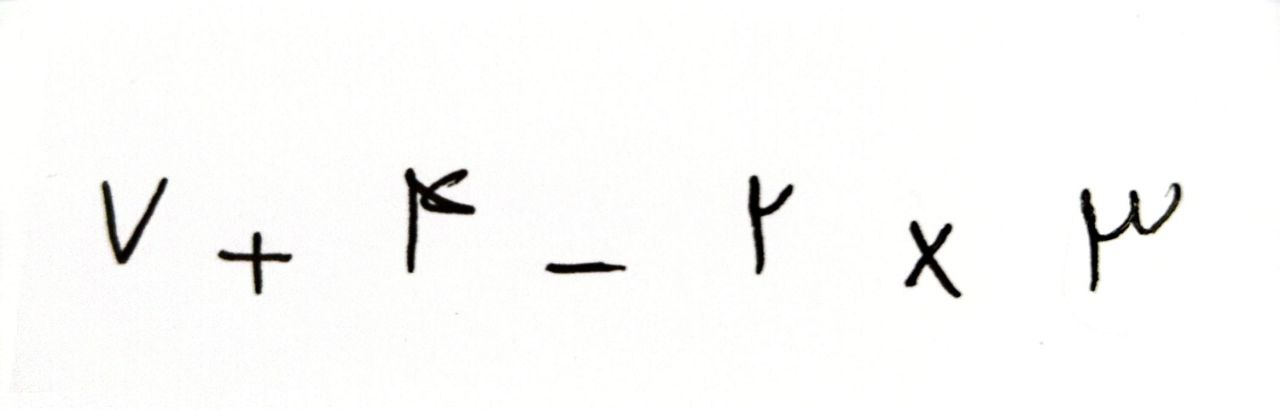character: (1079, 182, 1184, 299), (404, 166, 476, 276), (100, 173, 171, 270), (906, 213, 963, 298), (219, 234, 292, 296), (750, 175, 791, 272), (544, 261, 629, 276)
